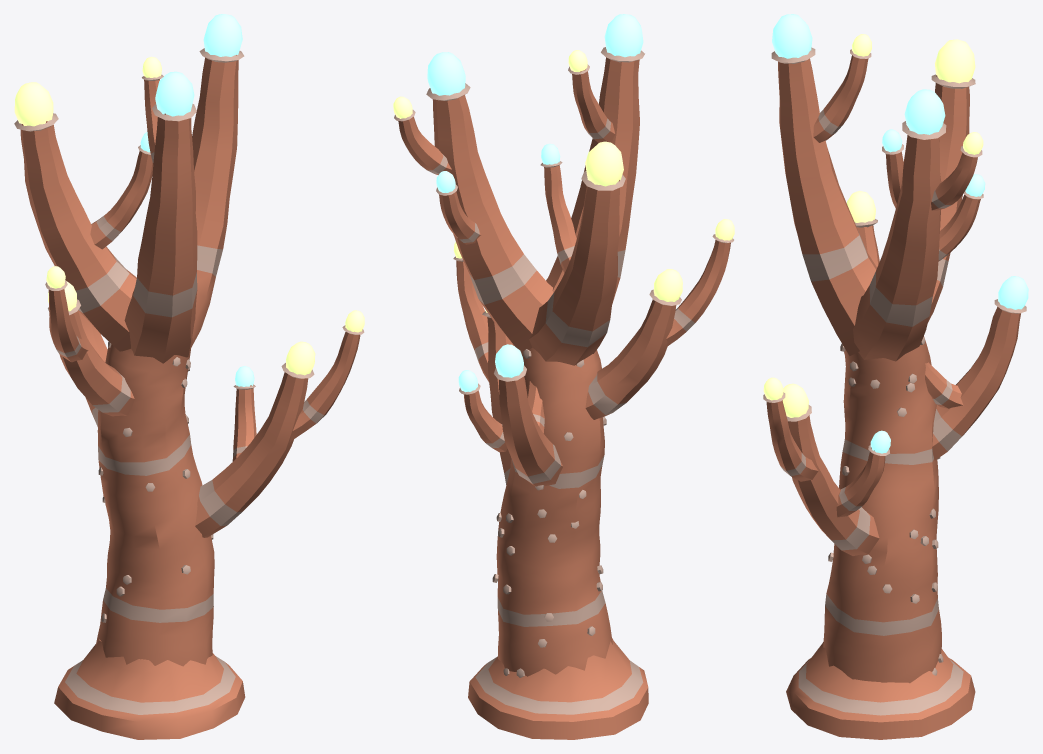
Rendered from deco_coral_pillar.fbx.
The picture shows the model from 3 angles, left to right: view 1: azimuth 30°, elevation 25°; view 2: azimuth 150°, elevation 25°; view 3: azimuth 270°, elevation 25°; orthographic projection. The views are drawn at different scales.
Visible parts, largest first — view 1: CoralPillar_Branches, CoralPillar_Trunk, CoralPillar_Tips; view 2: CoralPillar_Branches, CoralPillar_Trunk, CoralPillar_Tips; view 3: CoralPillar_Branches, CoralPillar_Trunk, CoralPillar_Tips.
Boxes of the visible parts, x1=… form: CoralPillar_Branches: x1=20, y1=55, x2=360, y2=622; CoralPillar_Trunk: x1=54, y1=344, x2=245, y2=739; CoralPillar_Tips: x1=14, y1=14, x2=364, y2=389; CoralPillar_Branches: x1=398, y1=57, x2=730, y2=677; CoralPillar_Trunk: x1=468, y1=347, x2=648, y2=739; CoralPillar_Tips: x1=393, y1=14, x2=734, y2=394; CoralPillar_Branches: x1=766, y1=55, x2=1020, y2=675; CoralPillar_Trunk: x1=786, y1=336, x2=975, y2=739; CoralPillar_Tips: x1=763, y1=14, x2=1028, y2=455.
Bounding box in the file's own units: 172 × 365 × 130.
